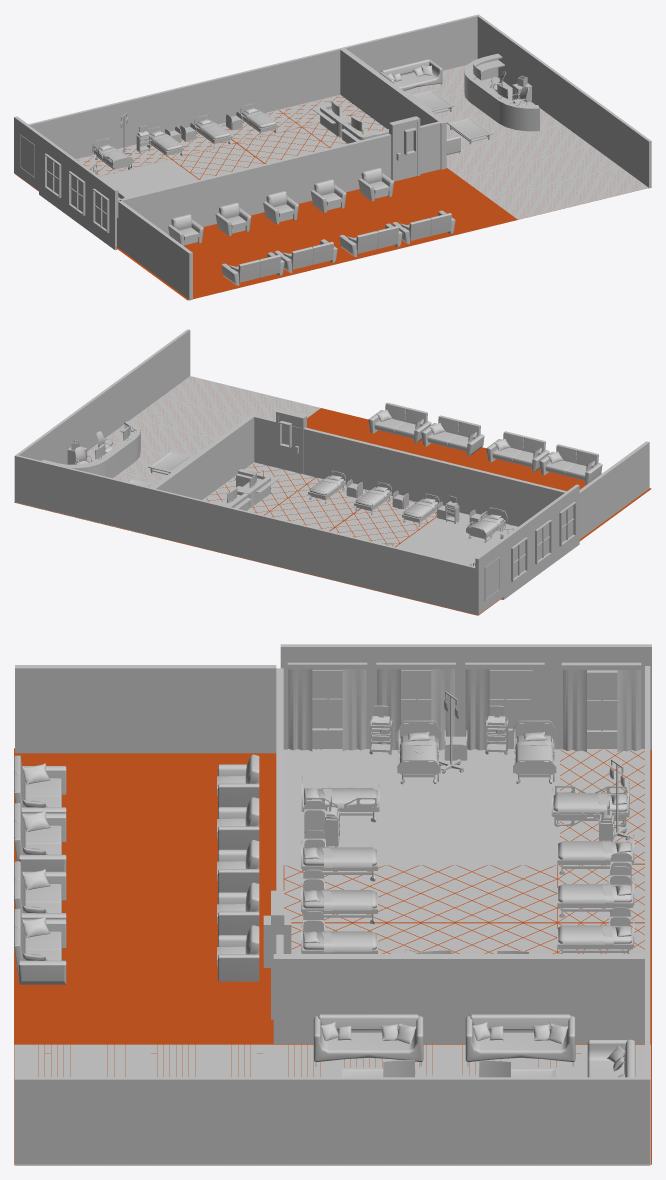
Rendered from reception.obj.
3 views of the same model, one above another, from view 1: azimuth 30°, elevation 25°; view 2: azimuth 150°, elevation 25°; view 3: azimuth 270°, elevation 25° (orthographic). The views are drawn at different scales.
Visible parts, largest first — view 1: Cube.003, Plane.003, floor_006.001, armchair_011.001, entertainment_048.002, floor_020.056, floor_020.064, floor_020.061, Walls_243.116, sofa_002.001, door_032.002, sofa_027.014 (+25 smaller); view 2: Cube.003, floor_006.001, Plane.003, sofa_027.012, entertainment_048.002, sofa_027.014, floor_020.054, sofa_027.013, sofa_027.001, Walls_243.116, floor_020.063, floor_020.060 (+19 smaller); view 3: Cube.003, Plane.003, floor_006.001, armchair_011.001, floor_020.061, floor_020.056, floor_020.055, floor_020.057, sofa_002.002, sofa_002.003, floor_020.054, Walls_006.014 (+44 smaller).
Boxes of the visible parts, box(x1,y1,x2,y2) form: Cube.003: box(28, 14, 651, 300); Plane.003: box(14, 70, 646, 300); floor_006.001: box(404, 65, 648, 219); armchair_011.001: box(168, 168, 393, 245); entertainment_048.002: box(464, 53, 539, 131); floor_020.056: box(107, 159, 198, 195); floor_020.064: box(238, 127, 328, 163); floor_020.061: box(173, 143, 263, 179); Walls_243.116: box(14, 116, 40, 189); sofa_002.001: box(379, 59, 442, 91); door_032.002: box(395, 122, 417, 181); sofa_027.014: box(221, 252, 284, 285); Cube.003: box(14, 329, 649, 615); floor_006.001: box(14, 376, 320, 534); Plane.003: box(14, 380, 651, 615); sofa_027.012: box(421, 415, 484, 456); entertainment_048.002: box(42, 420, 140, 478); sofa_027.014: box(539, 444, 602, 485); floor_020.054: box(411, 512, 510, 551); sofa_027.013: box(486, 431, 549, 472); sofa_027.001: box(368, 402, 431, 443); Walls_243.116: box(475, 541, 502, 614); floor_020.063: box(280, 477, 368, 519); floor_020.060: box(345, 495, 436, 535); Cube.003: box(14, 665, 650, 1165); Plane.003: box(14, 748, 651, 1164); floor_006.001: box(14, 1044, 650, 1164); armchair_011.001: box(217, 754, 259, 981); floor_020.061: box(420, 864, 557, 922); floor_020.056: box(420, 806, 557, 863); floor_020.055: box(284, 749, 420, 806); floor_020.057: box(420, 749, 557, 805); sofa_002.002: box(465, 1014, 575, 1066); sofa_002.003: box(313, 1014, 423, 1066); floor_020.054: box(284, 806, 420, 863); Walls_006.014: box(283, 750, 559, 866).
Bounding box in the file's own units: 37.35 × 4.56 × 24.06.
